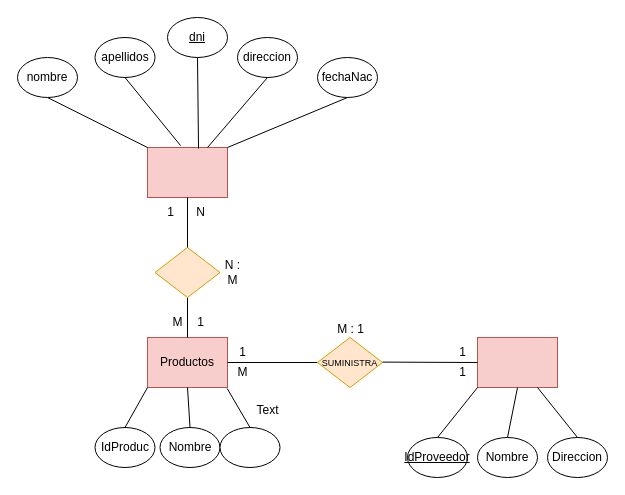
The diagram is 625 pixels wide and 495 high, and some of its shapes have lost their labels. Here are the shapes that lost their labels. From the top down, the box of each, then its label:
(146, 146, 228, 198): Clientes
(154, 246, 220, 298): COMPRA
(476, 336, 558, 388): Proveedores
(219, 426, 280, 468): precioUnitario
